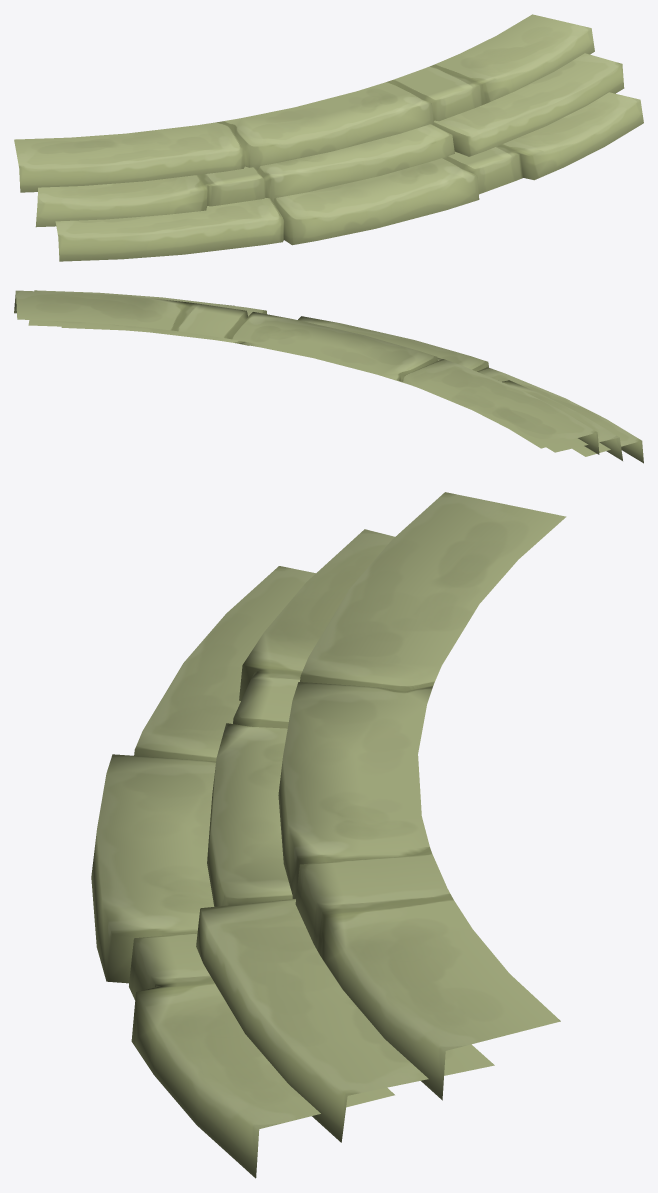
Rendered from stairs3.fbx.
The picture shows the model from 3 angles, top to bottom: view 1: azimuth 30°, elevation 25°; view 2: azimuth 150°, elevation 25°; view 3: azimuth 270°, elevation 25°; orthographic projection. The views are drawn at different scales.
Parts seen in each view (by area): view 1: polySurface11; view 2: polySurface11; view 3: polySurface11.
Boxes of the visible parts, <box> form: polySurface11: <box>14,14,643,261</box>; polySurface11: <box>14,290,643,463</box>; polySurface11: <box>91,492,566,1178</box>.
Bounding box in the file's own units: 14.4 × 1.45 × 5.08.
